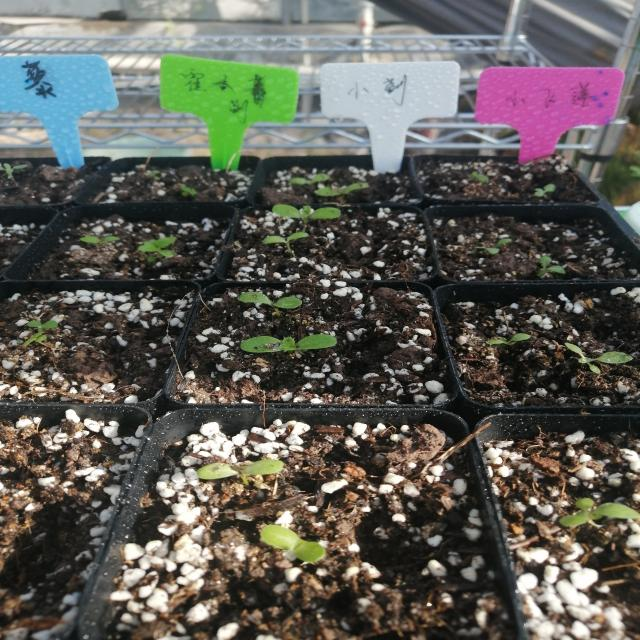field_thistle: (194, 305, 389, 379), (161, 442, 307, 492), (249, 515, 359, 580), (266, 202, 352, 250), (127, 217, 202, 261), (231, 289, 338, 315)
